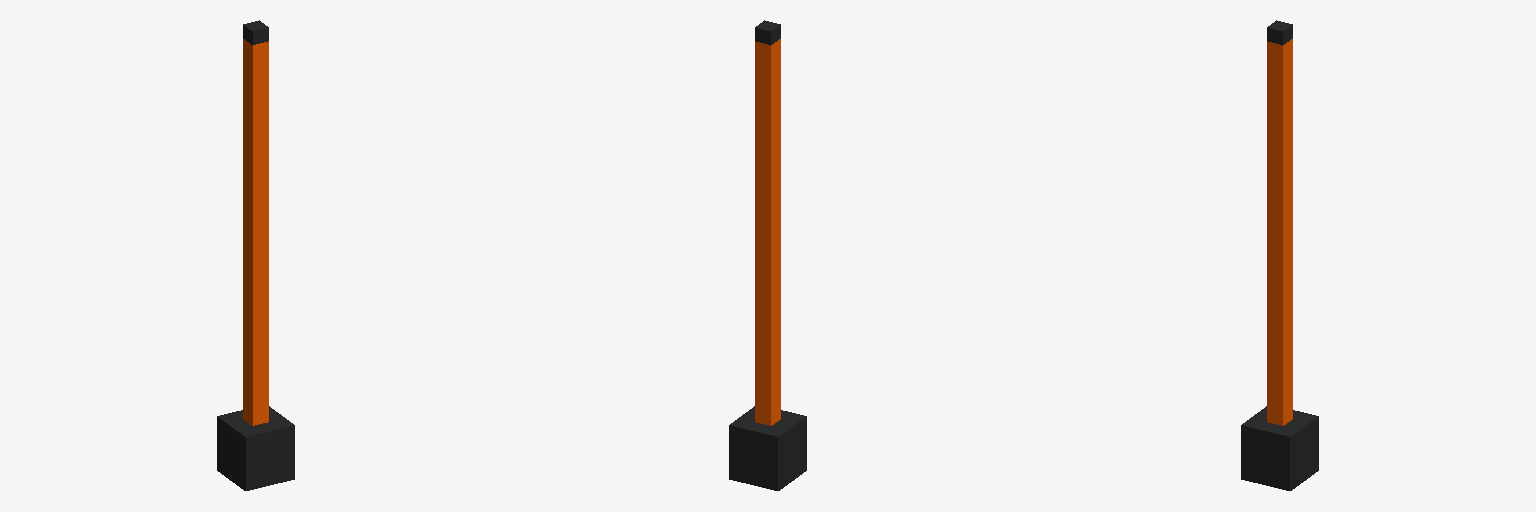
The robot description file, URDF, robot "lbr_iiwa":
<?xml version="1.0" ?>
<!-- =================================================================================== -->
<!-- |    This document was autogenerated by xacro from lbr_iiwa.urdf.xacro            | -->
<!-- |    EDITING THIS FILE BY HAND IS NOT RECOMMENDED                                 | -->
<!-- =================================================================================== -->
<robot name="lbr_iiwa" xmlns:xacro="http://www.ros.org/wiki/xacro">
  <!-- Import Rviz colors -->
  <material name="Black">
    <color rgba="0.0 0.0 0.0 1.0"/>
  </material>
  <material name="Blue">
    <color rgba="0.0 0.0 0.8 1.0"/>
  </material>
  <material name="Green">
    <color rgba="0.0 0.8 0.0 1.0"/>
  </material>
  <material name="Grey">
    <color rgba="0.2 0.2 0.2 1.0"/>
  </material>
  <material name="Orange">
    <color rgba="1.0 0.423529411765 0.0392156862745 1.0"/>
  </material>
  <material name="Brown">
    <color rgba="0.870588235294 0.811764705882 0.764705882353 1.0"/>
  </material>
  <material name="Red">
    <color rgba="0.8 0.0 0.0 1.0"/>
  </material>
  <material name="White">
    <color rgba="1.0 1.0 1.0 1.0"/>
  </material>
  <!--Import the lbr iiwa macro -->
  <!-- Import all Gazebo-customization elements, including Gazebo colors -->
  <!-- Import Transmissions -->
  <!-- Include Utilities -->
  <!-- The following macros are adapted from the LWR 4 definitions of the RCPRG - https://github.com/RCPRG-ros-pkg/lwr_robot -->
  <!--Little helper macros to define the inertia matrix needed for links.-->
  <!--Cuboid-->
  <!--Cylinder: length is along the y-axis! -->
  <!-- some constants -->
  <!-- <xacro:property name="safety_controller_k_pos" value="100" />
  <xacro:property name="safety_controller_k_vel" value="2" /> -->
  <!-- Import Gazebo plugins -->
  <gazebo>
    <plugin filename="libgazebo_ros_control.so" name="gazebo_ros_controller">
      <robotNamespace>/lbr_iiwa</robotNamespace>
    </plugin>
  </gazebo>
  <!-- Fix to world just for testing -->
  <link name="world"/>
  <!--lbr-->
  <!--joint between {parent} and link_0-->
  <joint name="world_joint" type="fixed">
    <origin rpy="0 0 0" xyz="0 0 0.0"/>
    <parent link="world"/>
    <child link="lbr_iiwa_link_0"/>
  </joint>
  <link name="lbr_iiwa_link_0">
    <inertial>
      <origin rpy="0 0 0" xyz="-0.1 0 0.07"/>
      <mass value="5"/>
      <inertia ixx="0.05" ixy="0" ixz="0" iyy="0.06" iyz="0" izz="0.03"/>
    </inertial>
    <visual>
      <origin rpy="0 0 0" xyz="0 0 0.07875"/>
      <geometry>
        <box size="0.15 0.15 0.1575"/>
      </geometry>
      <material name="Grey"/>
    </visual>
    <collision>
      <origin rpy="0 0 0" xyz="0 0 0.07875"/>
      <geometry>
        <box size="0.15 0.15 0.1575"/>
      </geometry>
      <material name="Grey"/>
    </collision>
    <!--self_collision_checking>
        <origin xyz="0 0 0" rpy="0 0 0"/>
        <geometry>
          <capsule radius="0.15" length="0.25"/>
        </geometry>
      </self_collision_checking-->
  </link>
  <!-- joint between link_0 and link_1 -->
  <joint name="lbr_iiwa_joint_1" type="revolute">
    <parent link="lbr_iiwa_link_0"/>
    <child link="lbr_iiwa_link_1"/>
    <origin rpy="0 0 0" xyz="0 0 0.1575"/>
    <axis xyz="0 0 1"/>
    <limit effort="300" lower="-2.96705972839" upper="2.96705972839" velocity="10"/>
    <!--   <safety_controller soft_lower_limit="${-168 * M_PI / 180}"
           soft_upper_limit="${168 * M_PI / 180}"
           k_position="${safety_controller_k_pos}"
           k_velocity="${safety_controller_k_vel}"/> -->
    <dynamics damping="0.5"/>
  </joint>
  <link name="lbr_iiwa_link_1">
    <inertial>
      <origin rpy="0 0 0" xyz="0 -0.03 0.12"/>
      <mass value="4"/>
      <inertia ixx="0.1" ixy="0" ixz="0" iyy="0.09" iyz="0" izz="0.02"/>
    </inertial>
    <visual>
      <origin rpy="0 0 0" xyz="0 0 0.10125"/>
      <geometry>
        <box size="0.05 0.05 0.2025"/>
      </geometry>
      <material name="Orange"/>
    </visual>
    <collision>
      <origin rpy="0 0 0" xyz="0 0 0.10125"/>
      <geometry>
        <box size="0.05 0.05 0.2025"/>
      </geometry>
      <material name="Orange"/>
    </collision>
  </link>
  <!-- joint between link_1 and link_2 -->
  <joint name="lbr_iiwa_joint_2" type="revolute">
    <parent link="lbr_iiwa_link_1"/>
    <child link="lbr_iiwa_link_2"/>
    <origin rpy="1.57079632679   0 3.14159265359" xyz="0 0 0.2025"/>
    <axis xyz="0 0 1"/>
    <limit effort="300" lower="-2.09439510239" upper="2.09439510239" velocity="10"/>
    <!-- <safety_controller soft_lower_limit="${-118 * PI / 180}"
           soft_upper_limit="${118 * PI / 180}"
           k_position="${safety_controller_k_pos}"
           k_velocity="${safety_controller_k_vel}"/> -->
    <dynamics damping="0.5"/>
  </joint>
  <link name="lbr_iiwa_link_2">
    <inertial>
      <origin rpy="0 0 0" xyz="0.0003 0.059 0.042"/>
      <mass value="4"/>
      <inertia ixx="0.05" ixy="0" ixz="0" iyy="0.018" iyz="0" izz="0.044"/>
    </inertial>
    <visual>
      <origin rpy="0 0 0" xyz="0 0.10225 0"/>
      <geometry>
        <box size="0.05 0.2045 0.05"/>
      </geometry>
      <material name="Orange"/>
    </visual>
    <collision>
      <origin rpy="0 0 0" xyz="0 0.10225 0"/>
      <geometry>
        <box size="0.05 0.2045 0.05"/>
      </geometry>
      <material name="Orange"/>
    </collision>
  </link>
  <!-- joint between link_2 and link_3 -->
  <joint name="lbr_iiwa_joint_3" type="revolute">
    <parent link="lbr_iiwa_link_2"/>
    <child link="lbr_iiwa_link_3"/>
    <origin rpy="1.57079632679 0 3.14159265359" xyz="0 0.2045 0"/>
    <axis xyz="0 0 1"/>
    <limit effort="300" lower="-2.96705972839" upper="2.96705972839" velocity="10"/>
    <!-- <safety_controller soft_lower_limit="${-118 * PI / 180}"
           soft_upper_limit="${118 * PI / 180}"
           k_position="${safety_controller_k_pos}"
           k_velocity="${safety_controller_k_vel}"/> -->
    <dynamics damping="0.5"/>
  </joint>
  <link name="lbr_iiwa_link_3">
    <inertial>
      <origin rpy="0 0 0" xyz="0 0.03 0.13"/>
      <mass value="3"/>
      <inertia ixx="0.08" ixy="0" ixz="0" iyy="0.075" iyz="0" izz="0.01"/>
    </inertial>
    <visual>
      <origin rpy="0 0 0" xyz="0 0 0.10775"/>
      <geometry>
        <box size="0.05 0.05 0.2155"/>
      </geometry>
      <material name="Orange"/>
    </visual>
    <collision>
      <origin rpy="0 0 0" xyz="0 0 0.10775"/>
      <geometry>
        <box size="0.05 0.05 0.2155"/>
      </geometry>
      <material name="Orange"/>
    </collision>
  </link>
  <!-- joint between link_3 and link_4 -->
  <joint name="lbr_iiwa_joint_4" type="revolute">
    <parent link="lbr_iiwa_link_3"/>
    <child link="lbr_iiwa_link_4"/>
    <origin rpy="1.57079632679 0 0" xyz="0 0 0.2155"/>
    <axis xyz="0 0 1"/>
    <limit effort="300" lower="-2.09439510239" upper="2.09439510239" velocity="10"/>
    <!-- <safety_controller soft_lower_limit="${-118 * PI / 180}"
           soft_upper_limit="${118 * PI / 180}"
           k_position="${safety_controller_k_pos}"
           k_velocity="${safety_controller_k_vel}"/> -->
    <dynamics damping="0.5"/>
  </joint>
  <link name="lbr_iiwa_link_4">
    <inertial>
      <origin rpy="0 0 0" xyz="0 0.067 0.034"/>
      <mass value="2.7"/>
      <inertia ixx="0.03" ixy="0" ixz="0" iyy="0.01" iyz="0" izz="0.029"/>
    </inertial>
    <visual>
      <origin rpy="0 0 0" xyz="0 0.09225 0"/>
      <geometry>
        <box size="0.05 0.1845 0.05"/>
      </geometry>
      <material name="Orange"/>
    </visual>
    <collision>
      <origin rpy="0 0 0" xyz="0 0.09225 0"/>
      <geometry>
        <box size="0.05 0.1845 0.05"/>
      </geometry>
      <material name="Orange"/>
    </collision>
  </link>
  <!-- joint between link_4 and link_5 -->
  <joint name="lbr_iiwa_joint_5" type="revolute">
    <parent link="lbr_iiwa_link_4"/>
    <child link="lbr_iiwa_link_5"/>
    <origin rpy="-1.57079632679 3.14159265359 0" xyz="0 0.1845 0"/>
    <axis xyz="0 0 1"/>
    <limit effort="300" lower="-2.96705972839" upper="2.96705972839" velocity="10"/>
    <!-- <safety_controller soft_lower_limit="${-118 * PI / 180}"
           soft_upper_limit="${118 * PI / 180}"
           k_position="${safety_controller_k_pos}"
           k_velocity="${safety_controller_k_vel}"/> -->
    <dynamics damping="0.5"/>
  </joint>
  <link name="lbr_iiwa_link_5">
    <inertial>
      <origin rpy="0 0 0" xyz="0.0001 0.021 0.076"/>
      <mass value="1.7"/>
      <inertia ixx="0.02" ixy="0" ixz="0" iyy="0.018" iyz="0" izz="0.005"/>
    </inertial>
    <visual>
      <origin rpy="0 0 0" xyz="0 0 0.10775"/>
      <geometry>
        <box size="0.05 0.05 0.2155"/>
      </geometry>
      <material name="Orange"/>
    </visual>
    <collision>
      <origin rpy="0 0 0" xyz="0 0 0.10775"/>
      <geometry>
        <box size="0.05 0.05 0.2155"/>
      </geometry>
      <material name="Orange"/>
    </collision>
  </link>
  <!-- joint between link_5 and link_6 -->
  <joint name="lbr_iiwa_joint_6" type="revolute">
    <parent link="lbr_iiwa_link_5"/>
    <child link="lbr_iiwa_link_6"/>
    <origin rpy="1.57079632679 0 0" xyz="0 0 0.2155"/>
    <axis xyz="0 0 1"/>
    <limit effort="300" lower="-2.09439510239" upper="2.09439510239" velocity="10"/>
    <!-- <safety_controller soft_lower_limit="${-118 * PI / 180}"
           soft_upper_limit="${118 * PI / 180}"
           k_position="${safety_controller_k_pos}"
           k_velocity="${safety_controller_k_vel}"/> -->
    <dynamics damping="0.5"/>
  </joint>
  <link name="lbr_iiwa_link_6">
    <inertial>
      <origin rpy="0 0 0" xyz="0 0.0006 0.0004"/>
      <mass value="1.8"/>
      <inertia ixx="0.005" ixy="0" ixz="0" iyy="0.0036" iyz="0" izz="0.0047"/>
    </inertial>
    <visual>
      <origin rpy="0 0 0" xyz="0 0.0405 0"/>
      <geometry>
        <box size="0.05 0.081 0.05"/>
      </geometry>
      <material name="Orange"/>
    </visual>
    <collision>
      <origin rpy="0 0 0" xyz="0 0.0405 0"/>
      <geometry>
        <box size="0.05 0.081 0.05"/>
      </geometry>
      <material name="Orange"/>
    </collision>
  </link>
  <!-- joint between link_6 and link_7 -->
  <joint name="lbr_iiwa_joint_7" type="revolute">
    <parent link="lbr_iiwa_link_6"/>
    <child link="lbr_iiwa_link_7"/>
    <origin rpy="-1.57079632679 3.14159265359 0" xyz="0 0.081 0"/>
    <axis xyz="0 0 1"/>
    <limit effort="300" lower="-3.05432619099" upper="3.05432619099" velocity="10"/>
    <!-- <safety_controller soft_lower_limit="${-118 * PI / 180}"
           soft_upper_limit="${118 * PI / 180}"
           k_position="${safety_controller_k_pos}"
           k_velocity="${safety_controller_k_vel}"/> -->
    <dynamics damping="0.5"/>
  </joint>
  <link name="lbr_iiwa_link_7">
    <inertial>
      <origin rpy="0 0 0" xyz="0 0 0.02"/>
      <mass value="0.3"/>
      <inertia ixx="0.001" ixy="0" ixz="0" iyy="0.001" iyz="0" izz="0.001"/>
    </inertial>
    <visual>
      <origin rpy="0 0 0" xyz="0 0 0.02"/>
      <geometry>
        <box size="0.05 0.05 0.04"/>
      </geometry>
      <material name="Grey"/>
    </visual>
    <collision>
      <origin rpy="0 0 0" xyz="0 0 0.02"/>
      <geometry>
        <box size="0.05 0.05 0.04"/>
      </geometry>
      <material name="Grey"/>
    </collision>
  </link>
  <!--Extensions -->
  <!-- Link0 -->
  <gazebo reference="lbr_iiwa_link_0">
    <material>Gazebo/Grey</material>
    <mu1>0.2</mu1>
    <mu2>0.2</mu2>
  </gazebo>
  <!-- Link1 -->
  <gazebo reference="lbr_iiwa_link_1">
    <material>Gazebo/Orange</material>
    <mu1>0.2</mu1>
    <mu2>0.2</mu2>
  </gazebo>
  <!-- Link2 -->
  <gazebo reference="lbr_iiwa_link_2">
    <material>Gazebo/Orange</material>
    <mu1>0.2</mu1>
    <mu2>0.2</mu2>
  </gazebo>
  <!-- Link3 -->
  <gazebo reference="lbr_iiwa_link_3">
    <material>Gazebo/Orange</material>
    <mu1>0.2</mu1>
    <mu2>0.2</mu2>
  </gazebo>
  <!-- Link4 -->
  <gazebo reference="lbr_iiwa_link_4">
    <material>Gazebo/Orange</material>
    <mu1>0.2</mu1>
    <mu2>0.2</mu2>
  </gazebo>
  <!-- Link5 -->
  <gazebo reference="lbr_iiwa_link_5">
    <material>Gazebo/Orange</material>
    <mu1>0.2</mu1>
    <mu2>0.2</mu2>
  </gazebo>
  <!-- Link6 -->
  <gazebo reference="lbr_iiwa_link_6">
    <material>Gazebo/Orange</material>
    <mu1>0.2</mu1>
    <mu2>0.2</mu2>
  </gazebo>
  <!-- Link7 -->
  <gazebo reference="lbr_iiwa_link_7">
    <material>Gazebo/Grey</material>
    <mu1>0.2</mu1>
    <mu2>0.2</mu2>
  </gazebo>
  <transmission name="lbr_iiwa_tran_1">
    <type>transmission_interface/SimpleTransmission</type>
    <joint name="lbr_iiwa_joint_1">
      <hardwareInterface>EffortJointInterface</hardwareInterface>
    </joint>
    <actuator name="lbr_iiwa_motor_1">
      <hardwareInterface>EffortJointInterface</hardwareInterface>
      <mechanicalReduction>1</mechanicalReduction>
    </actuator>
  </transmission>
  <transmission name="lbr_iiwa_tran_2">
    <type>transmission_interface/SimpleTransmission</type>
    <joint name="lbr_iiwa_joint_2">
      <hardwareInterface>EffortJointInterface</hardwareInterface>
    </joint>
    <actuator name="lbr_iiwa_motor_2">
      <hardwareInterface>EffortJointInterface</hardwareInterface>
      <mechanicalReduction>1</mechanicalReduction>
    </actuator>
  </transmission>
  <transmission name="lbr_iiwa_tran_3">
    <type>transmission_interface/SimpleTransmission</type>
    <joint name="lbr_iiwa_joint_3">
      <hardwareInterface>EffortJointInterface</hardwareInterface>
    </joint>
    <actuator name="lbr_iiwa_motor_3">
      <hardwareInterface>EffortJointInterface</hardwareInterface>
      <mechanicalReduction>1</mechanicalReduction>
    </actuator>
  </transmission>
  <transmission name="lbr_iiwa_tran_4">
    <type>transmission_interface/SimpleTransmission</type>
    <joint name="lbr_iiwa_joint_4">
      <hardwareInterface>EffortJointInterface</hardwareInterface>
    </joint>
    <actuator name="lbr_iiwa_motor_4">
      <hardwareInterface>EffortJointInterface</hardwareInterface>
      <mechanicalReduction>1</mechanicalReduction>
    </actuator>
  </transmission>
  <transmission name="lbr_iiwa_tran_5">
    <type>transmission_interface/SimpleTransmission</type>
    <joint name="lbr_iiwa_joint_5">
      <hardwareInterface>EffortJointInterface</hardwareInterface>
    </joint>
    <actuator name="lbr_iiwa_motor_5">
      <hardwareInterface>EffortJointInterface</hardwareInterface>
      <mechanicalReduction>1</mechanicalReduction>
    </actuator>
  </transmission>
  <transmission name="lbr_iiwa_tran_6">
    <type>transmission_interface/SimpleTransmission</type>
    <joint name="lbr_iiwa_joint_6">
      <hardwareInterface>EffortJointInterface</hardwareInterface>
    </joint>
    <actuator name="lbr_iiwa_motor_6">
      <hardwareInterface>EffortJointInterface</hardwareInterface>
      <mechanicalReduction>1</mechanicalReduction>
    </actuator>
  </transmission>
  <transmission name="lbr_iiwa_tran_7">
    <type>transmission_interface/SimpleTransmission</type>
    <joint name="lbr_iiwa_joint_7">
      <hardwareInterface>EffortJointInterface</hardwareInterface>
    </joint>
    <actuator name="lbr_iiwa_motor_7">
      <hardwareInterface>EffortJointInterface</hardwareInterface>
      <mechanicalReduction>1</mechanicalReduction>
    </actuator>
  </transmission>
</robot>

--- Render facts (derived) ---
The picture shows the robot from 3 angles, left to right: view 1: azimuth 30°, elevation 25°; view 2: azimuth 150°, elevation 25°; view 3: azimuth 330°, elevation 25°; orthographic projection.
Model lbr_iiwa with 9 links and 8 joints (7 revolute, 1 fixed), rooted at world, posed every joint at zero.
Links seen in each view (by area): view 1: lbr_iiwa_link_0, lbr_iiwa_link_3, lbr_iiwa_link_5, lbr_iiwa_link_2, lbr_iiwa_link_1, lbr_iiwa_link_4, lbr_iiwa_link_6; view 2: lbr_iiwa_link_0, lbr_iiwa_link_3, lbr_iiwa_link_5, lbr_iiwa_link_2, lbr_iiwa_link_1, lbr_iiwa_link_4, lbr_iiwa_link_6; view 3: lbr_iiwa_link_0, lbr_iiwa_link_3, lbr_iiwa_link_5, lbr_iiwa_link_2, lbr_iiwa_link_1, lbr_iiwa_link_4, lbr_iiwa_link_6.
Boxes of the visible links, box(x1,y1,x2,y2) form: lbr_iiwa_link_0: box(217, 406, 294, 490); lbr_iiwa_link_3: box(243, 205, 268, 285); lbr_iiwa_link_5: box(243, 67, 268, 147); lbr_iiwa_link_2: box(243, 279, 268, 355); lbr_iiwa_link_1: box(243, 350, 268, 425); lbr_iiwa_link_4: box(243, 141, 268, 210); lbr_iiwa_link_6: box(243, 39, 268, 72); lbr_iiwa_link_0: box(729, 406, 806, 490); lbr_iiwa_link_3: box(755, 205, 780, 285); lbr_iiwa_link_5: box(755, 67, 780, 147); lbr_iiwa_link_2: box(755, 279, 780, 355); lbr_iiwa_link_1: box(755, 350, 780, 425); lbr_iiwa_link_4: box(755, 141, 780, 210); lbr_iiwa_link_6: box(755, 39, 780, 72); lbr_iiwa_link_0: box(1241, 406, 1318, 490); lbr_iiwa_link_3: box(1267, 205, 1292, 285); lbr_iiwa_link_5: box(1267, 67, 1292, 147); lbr_iiwa_link_2: box(1267, 279, 1292, 355); lbr_iiwa_link_1: box(1267, 350, 1292, 425); lbr_iiwa_link_4: box(1267, 141, 1292, 210); lbr_iiwa_link_6: box(1267, 39, 1292, 72).
Size in the robot's own frame: 0.15 by 0.15 by 1.3 metres.
Geometry: primitives only (box / cylinder / sphere), no mesh files.
